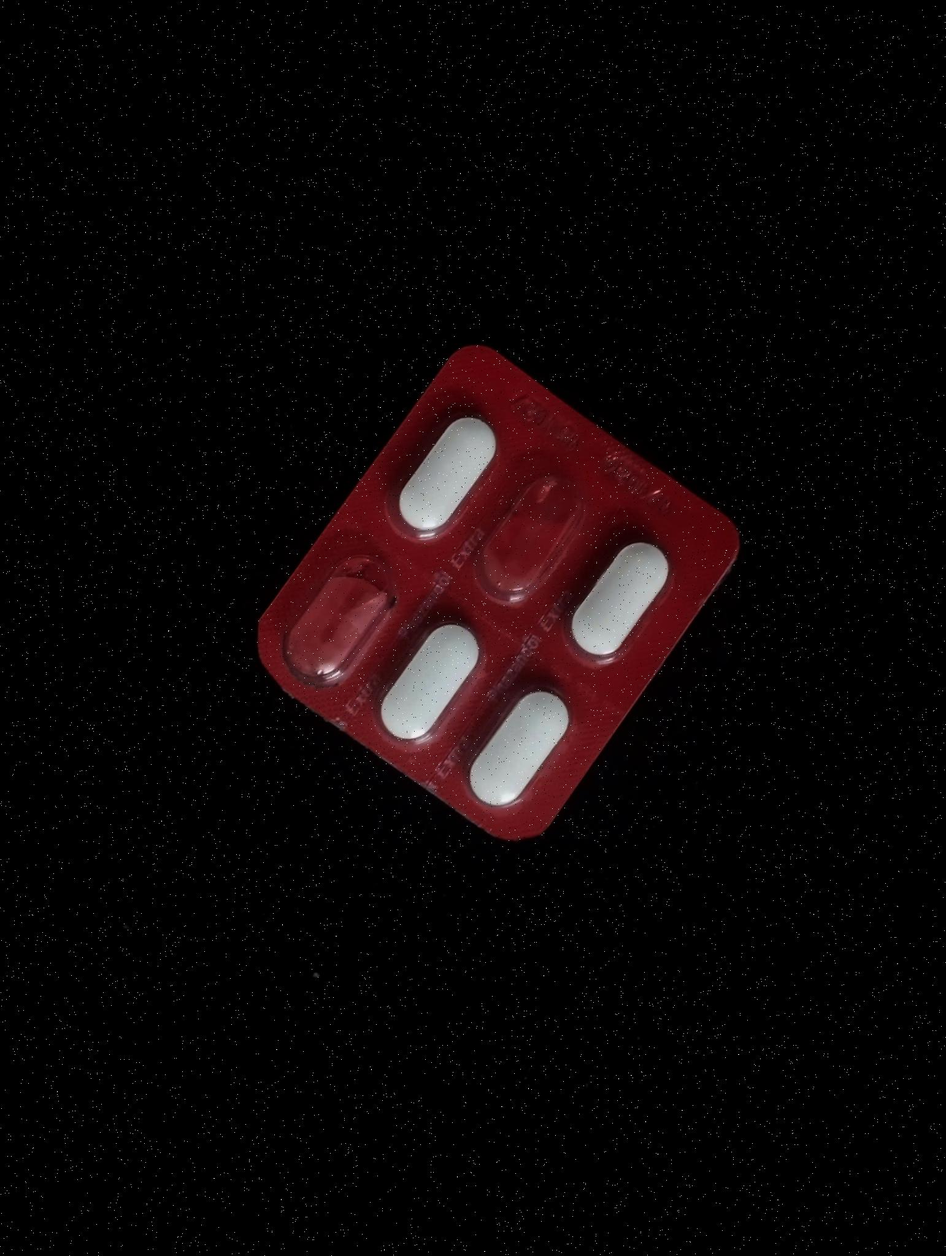Empty: (260, 526, 431, 708), (457, 452, 608, 616)
Full: (548, 516, 692, 674), (450, 668, 587, 826), (378, 392, 515, 546), (362, 605, 496, 757)
